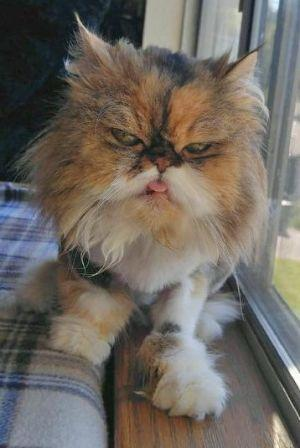persian: (38, 8, 277, 256)
